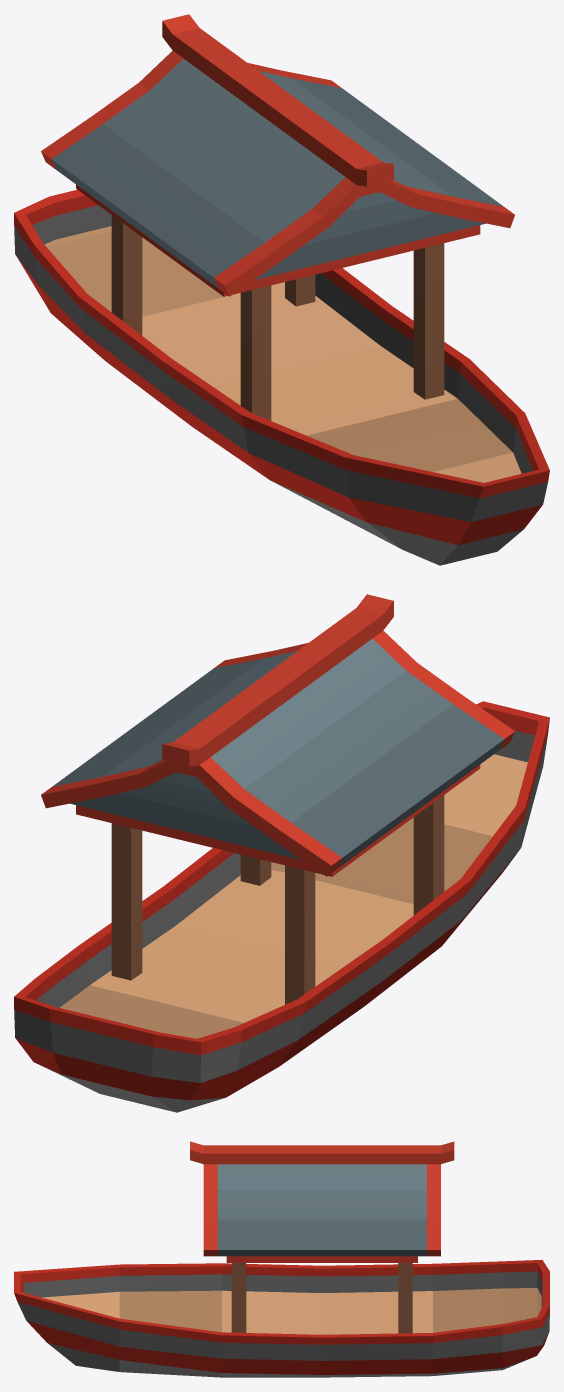
The model's file is japanese boat.fbx.
The picture shows the model from 3 angles, top to bottom: view 1: azimuth 30°, elevation 25°; view 2: azimuth 150°, elevation 25°; view 3: azimuth 270°, elevation 25°; orthographic projection. The views are drawn at different scales.
Visible parts, largest first — view 1: japanese boat; view 2: japanese boat; view 3: japanese boat.
Part boxes in pixels (x1,y1,x2,y2): japanese boat: (14,14,549,565); japanese boat: (14,594,549,1112); japanese boat: (14,1141,549,1377).
Bounding box in the file's own units: 384 × 433 × 949.
